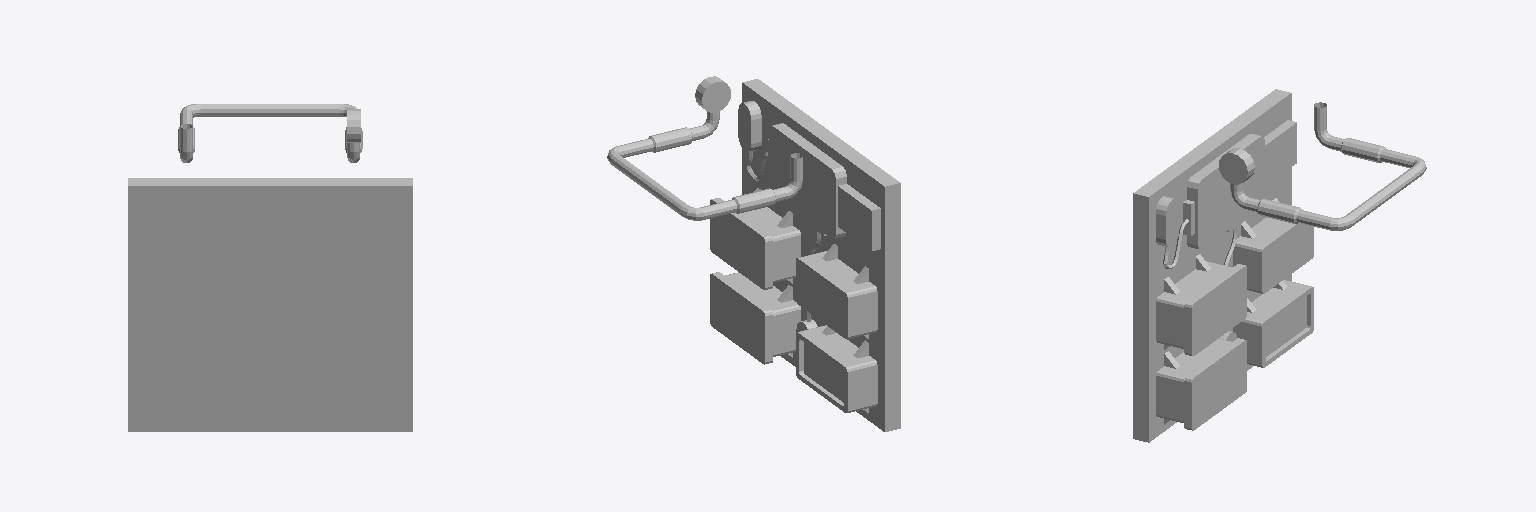
Rendered from AgenaForAO.obj.
3 views of the same model, side by side, from view 1: azimuth 30°, elevation 25°; view 2: azimuth 150°, elevation 25°; view 3: azimuth 270°, elevation 25° (orthographic).
Visible parts, largest first — view 1: Agena_MaterialsBay3; view 2: Agena_MaterialsBay3; view 3: Agena_MaterialsBay3.
Boxes of the visible parts, x1,y1,x2,y2 form: Agena_MaterialsBay3: [128, 104, 412, 431]; Agena_MaterialsBay3: [607, 76, 900, 431]; Agena_MaterialsBay3: [1133, 89, 1426, 442].
Size of the model in its own units: 0.4344 by 0.453 by 0.4233.